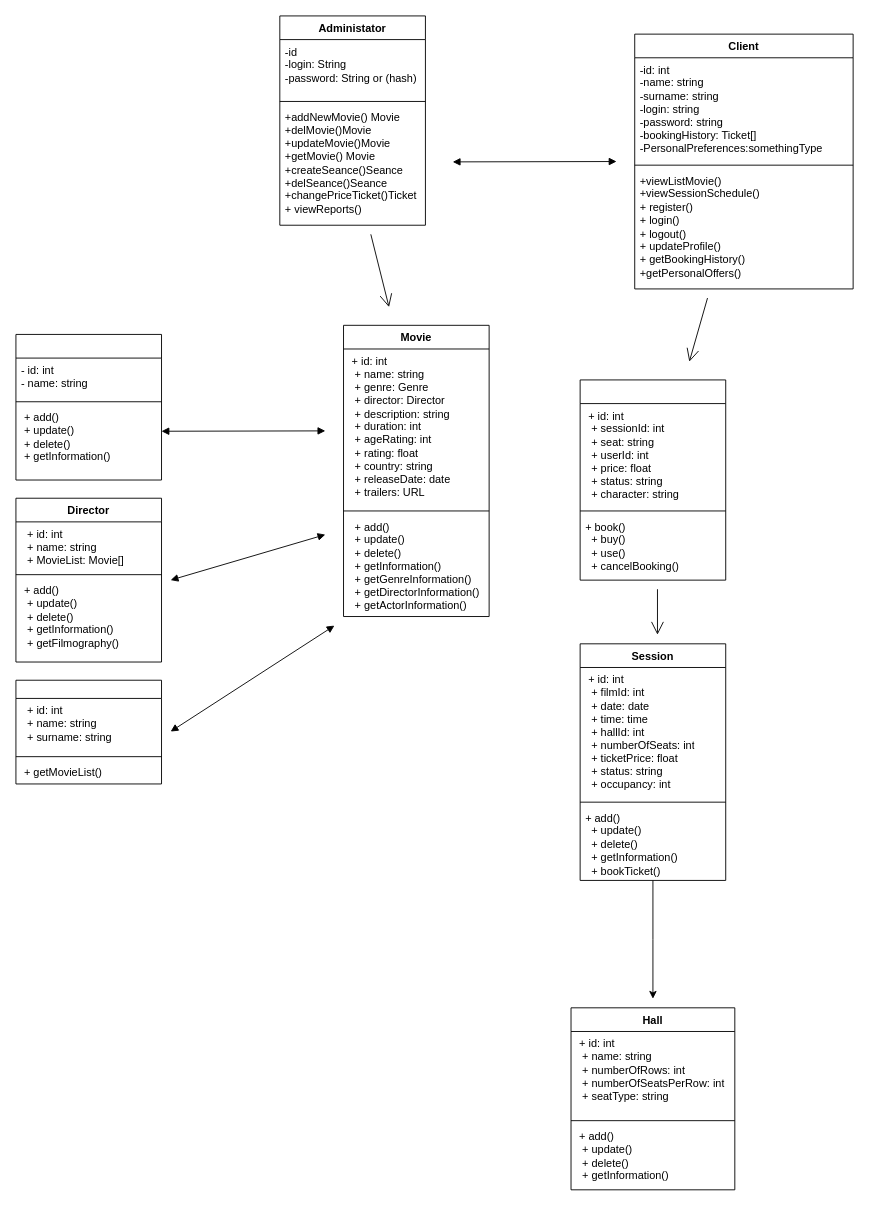
This 869x1208 diagram has some shape labels left out. Each missing label, with the box of its shape:
Actor: (15, 679, 162, 784)
Genre: (15, 334, 162, 480)
Ticket: (579, 379, 726, 580)
